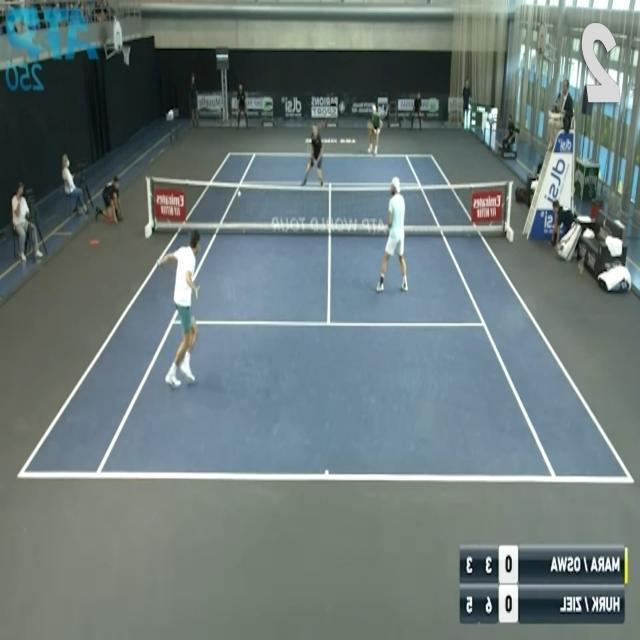court: (16, 152, 634, 484)
net: (146, 178, 512, 232)
player: (157, 228, 200, 394), (376, 176, 409, 293)
